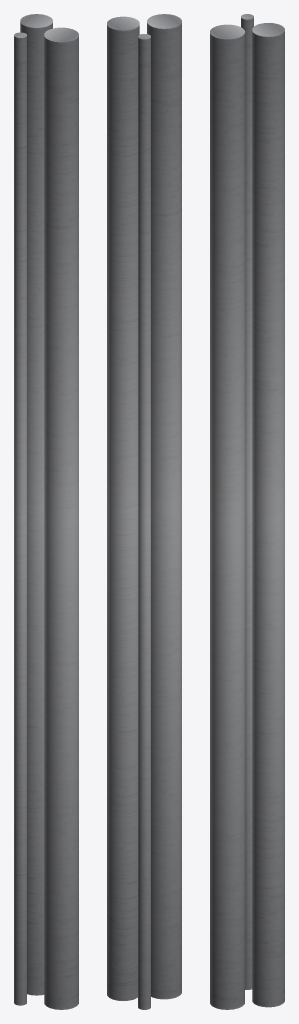
File: BoilerRoom_Pipes_w_Textures.fbx
3 views of the same model, side by side, from view 1: azimuth 90°, elevation 25°; view 2: azimuth 150°, elevation 25°; view 3: azimuth 330°, elevation 25° (orthographic).
Parts seen in each view (by area): view 1: Pipes001; view 2: Pipes001; view 3: Pipes001.
Boxes of the visible parts, box(x1,y1,x2,y2) form: Pipes001: box(14, 14, 78, 1009); Pipes001: box(107, 14, 181, 1009); Pipes001: box(210, 14, 284, 1009).
Bounding box in the file's own units: 12.4 × 197 × 11.96.
